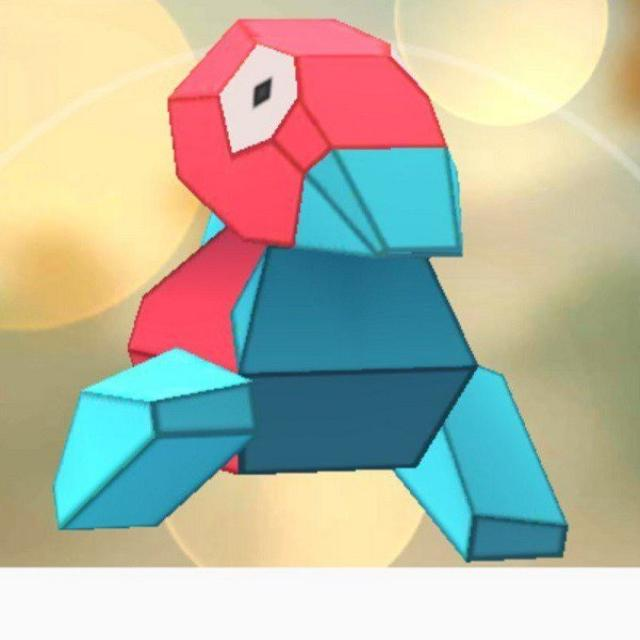Porygon: (130, 24, 506, 536)
